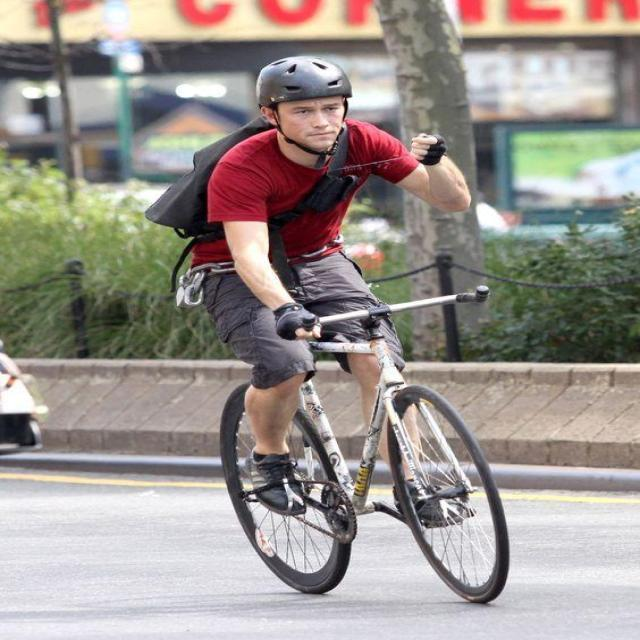helmet: (256, 52, 358, 162)
